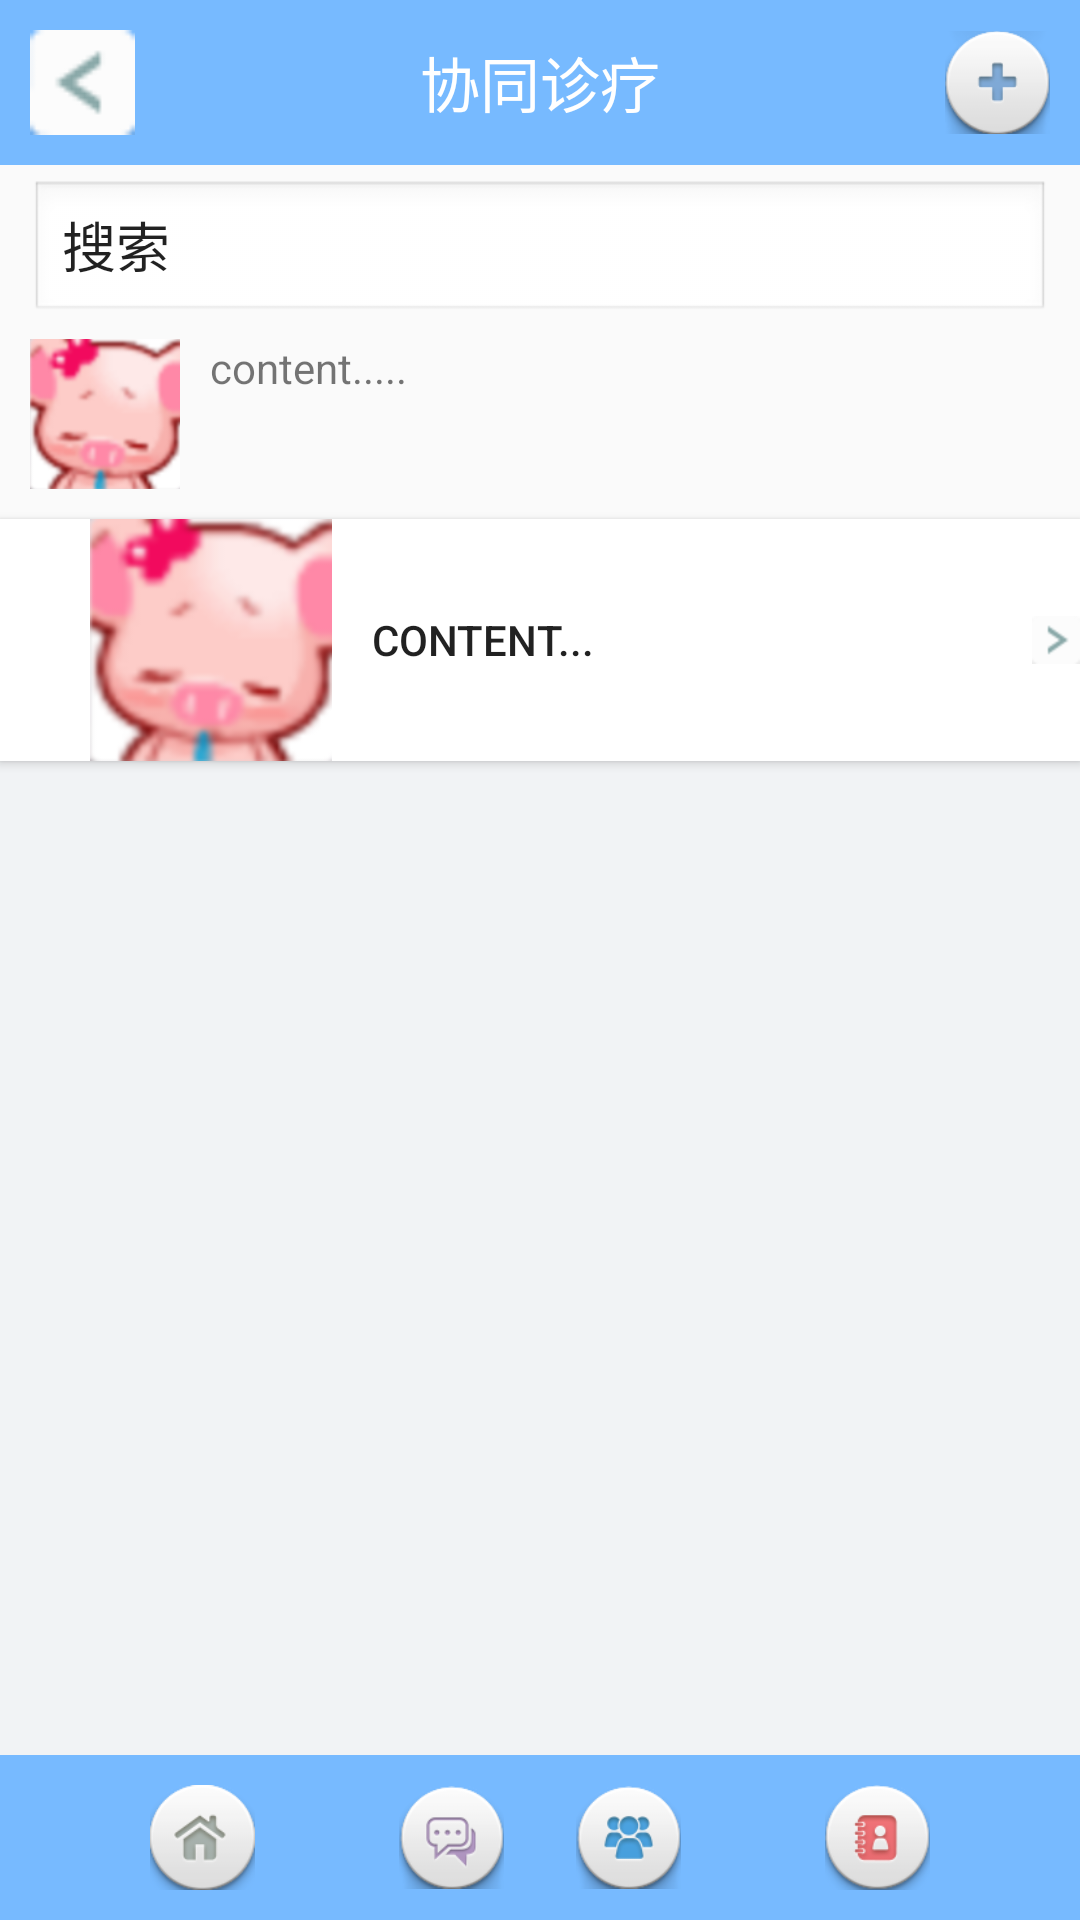

Icons on this 1080×1920 Android screen, each with its box as (x1, y1, x2, y2):
add: (945, 31, 1050, 134)
home: (150, 1785, 255, 1890)
huihua: (399, 1786, 504, 1889)
left: (30, 30, 135, 135)
